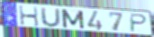4: (86, 10, 104, 32)
7: (109, 12, 125, 32)
H: (19, 5, 41, 27)
M: (60, 8, 86, 30)
P: (130, 13, 149, 33)
U: (40, 8, 63, 28)
